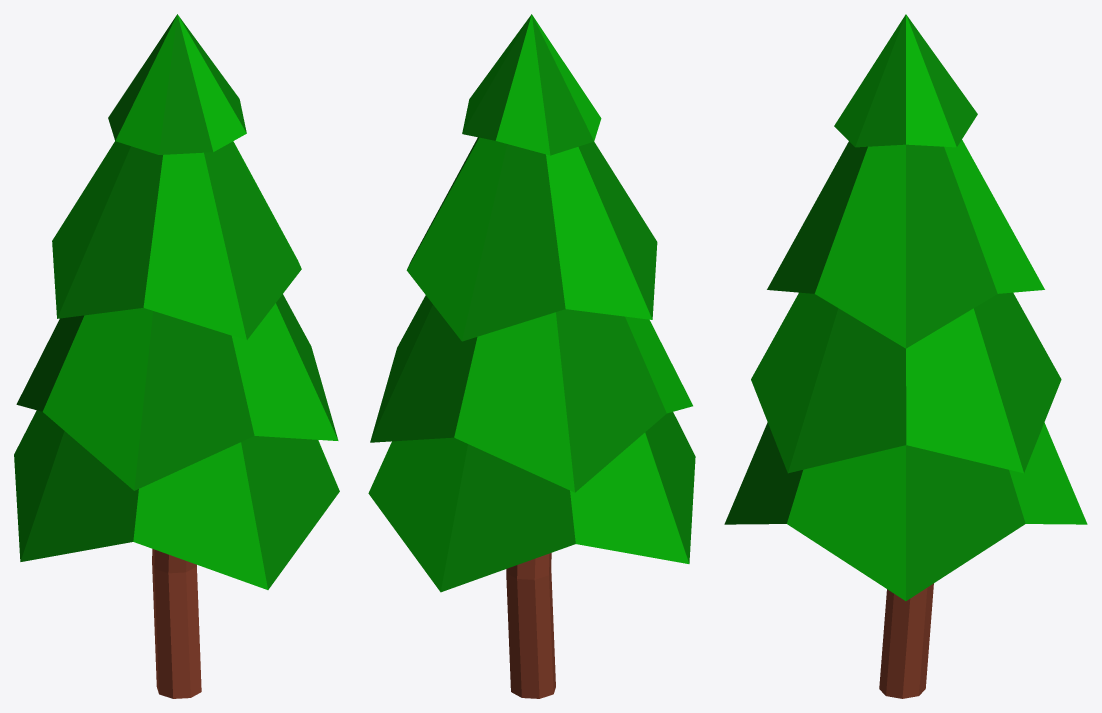
File: Tree.fbx
3 views of the same model, side by side, from view 1: azimuth 30°, elevation 25°; view 2: azimuth 150°, elevation 25°; view 3: azimuth 270°, elevation 25° (orthographic).
Visible parts, largest first — view 1: Cube; view 2: Cube; view 3: Cube.
Boxes of the visible parts, bbox=[...] form: Cube: bbox=[14, 14, 339, 698]; Cube: bbox=[368, 14, 695, 698]; Cube: bbox=[724, 14, 1087, 698].
Size of the model in its own units: 708 by 1452 by 708.
